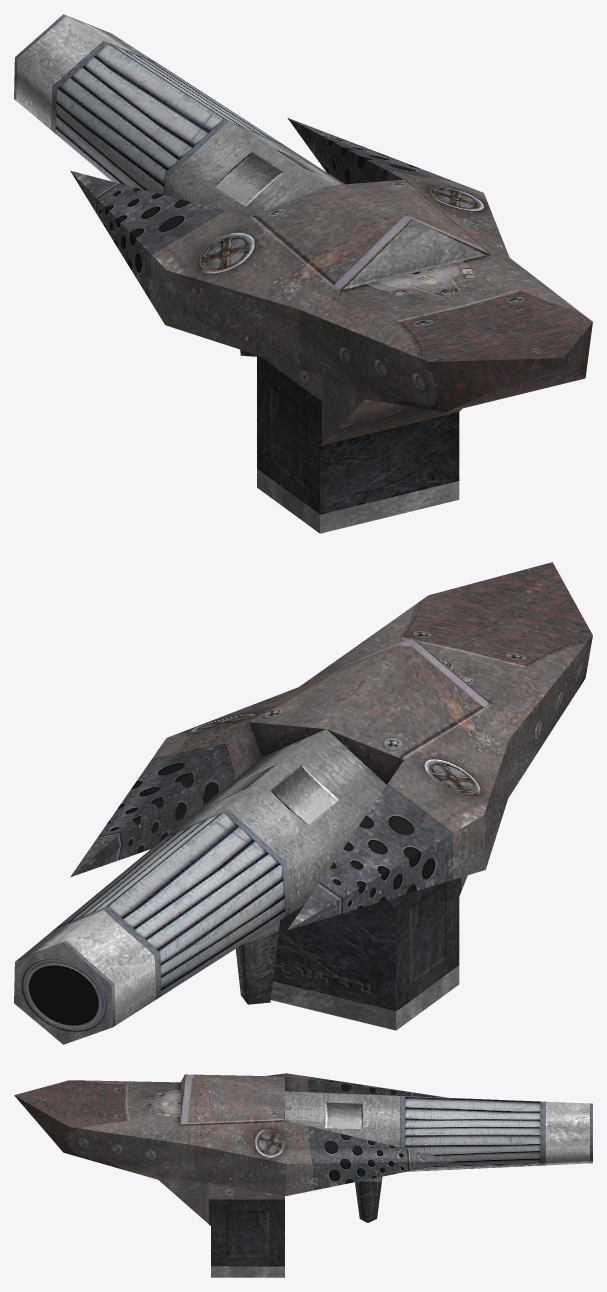
Rendered from afps_3.glb.
3 views of the same model, one above another, from view 1: azimuth 30°, elevation 25°; view 2: azimuth 150°, elevation 25°; view 3: azimuth 270°, elevation 25° (orthographic). The views are drawn at different scales.
Parts seen in each view (by area): view 1: weapon3; view 2: weapon3; view 3: weapon3.
Part boxes in pixels (left/top/right/bottom): weapon3: left=14, top=14, right=592, bottom=533; weapon3: left=14, top=562, right=592, bottom=1044; weapon3: left=14, top=1073, right=592, bottom=1277.
Size of the model in its own units: 0.3927 by 0.367 by 1.05.
1 material, 1 textured.
